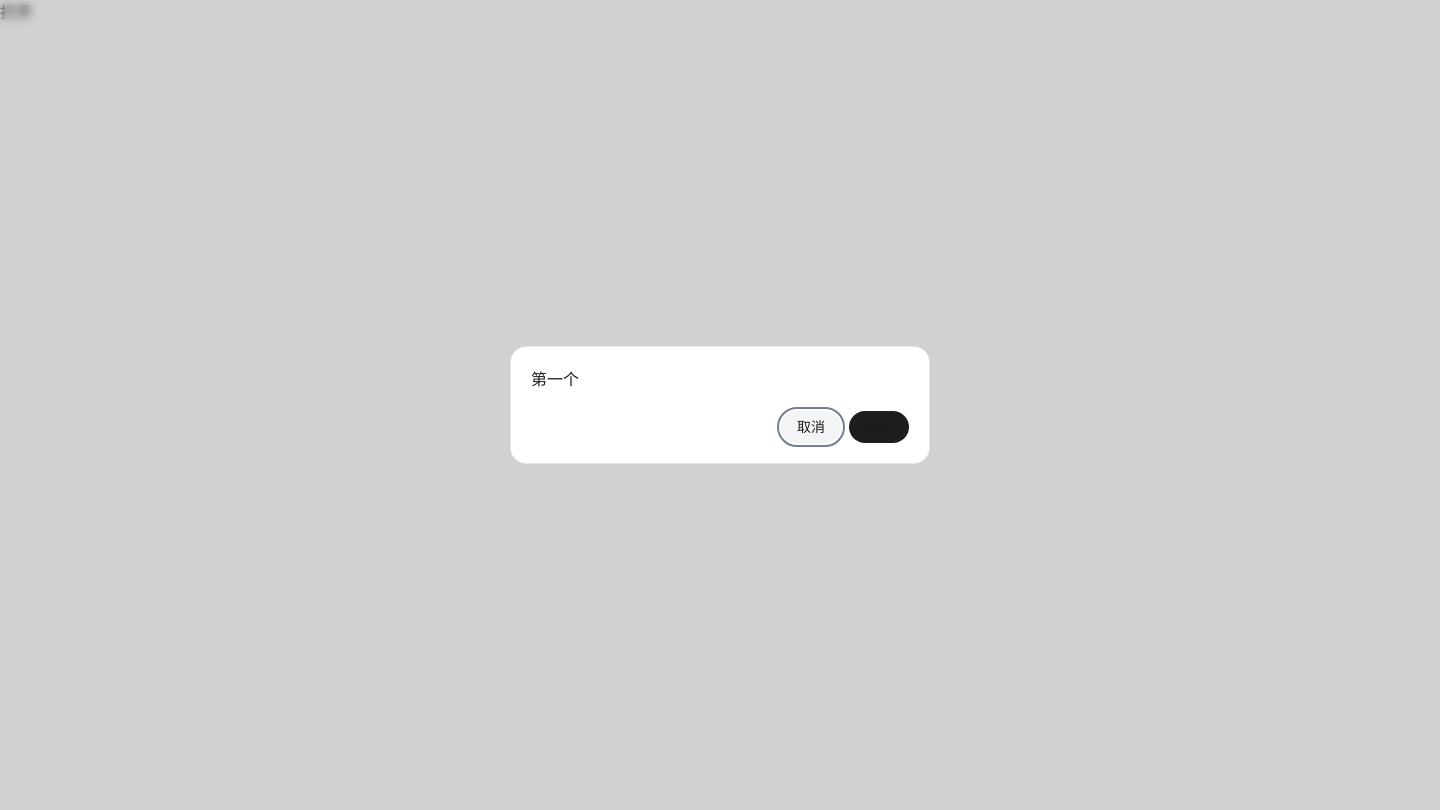
Test: useConfirm / ConfirmProvider › 连续调用按队列依次展示
Expected: the heading "第一个" is shown, x1=531 y1=369 x2=579 y2=389
Expected: the text "第二个" is not shown
Click the button "确定": (879, 427) x1=849 y1=411 x2=909 y2=443
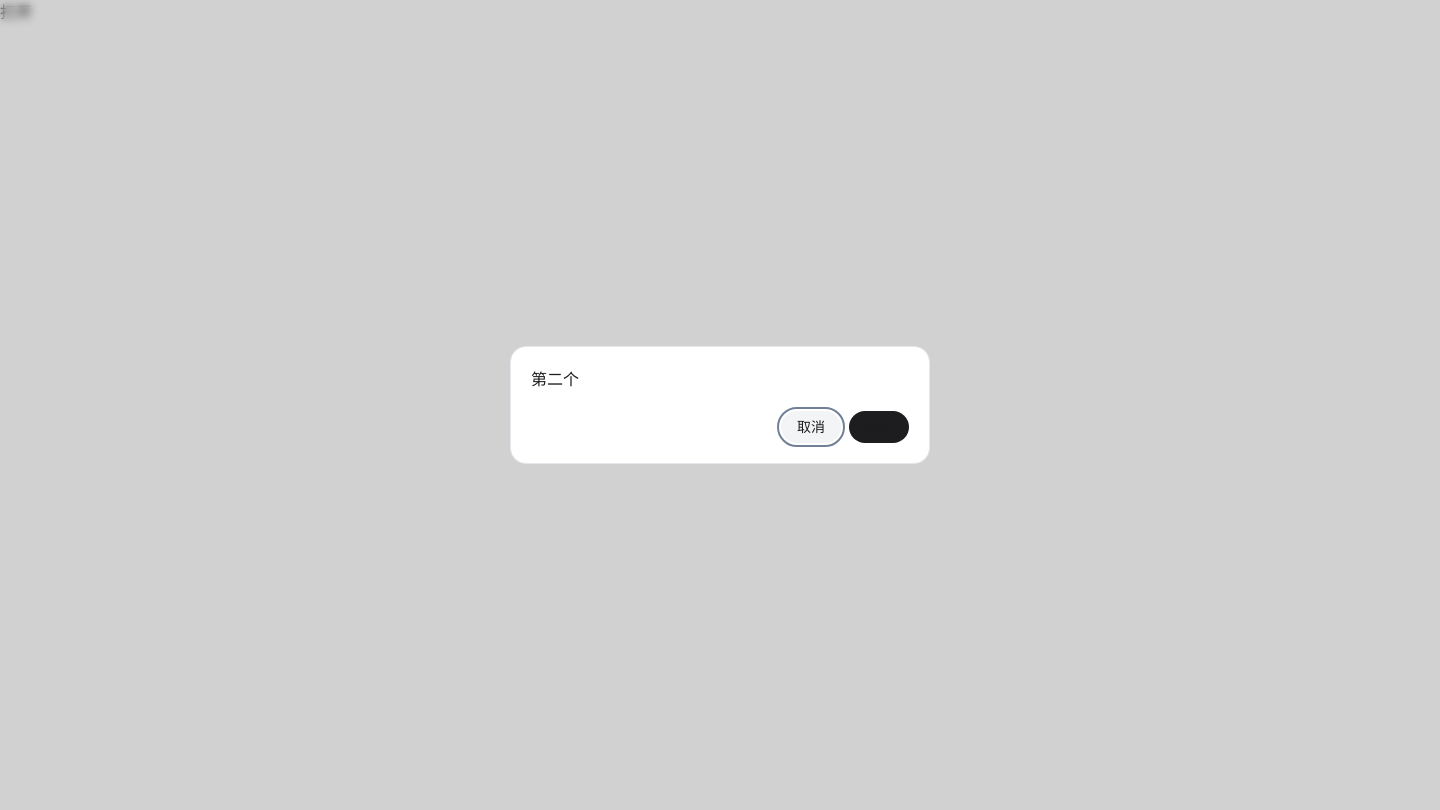
Expected: the heading "第二个" is shown, x1=531 y1=369 x2=579 y2=389
